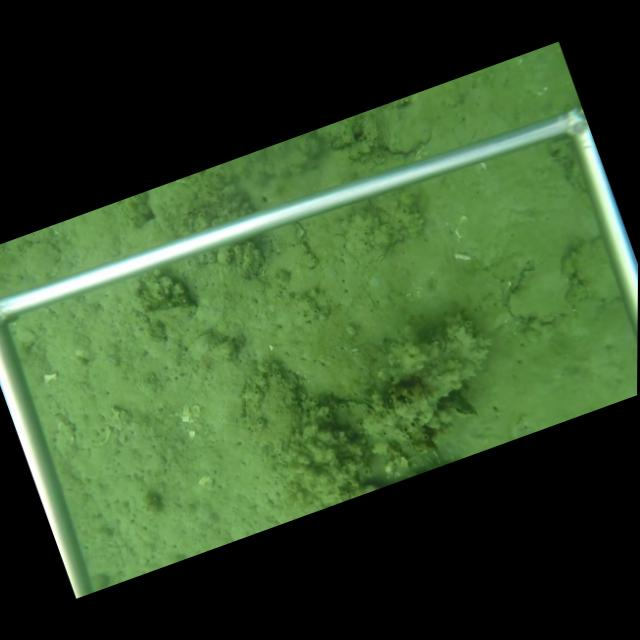Oyster-Closed: (379, 112, 436, 156), (436, 396, 481, 419), (438, 326, 449, 357)
Oyster-Indeterminate: (506, 252, 578, 326)
